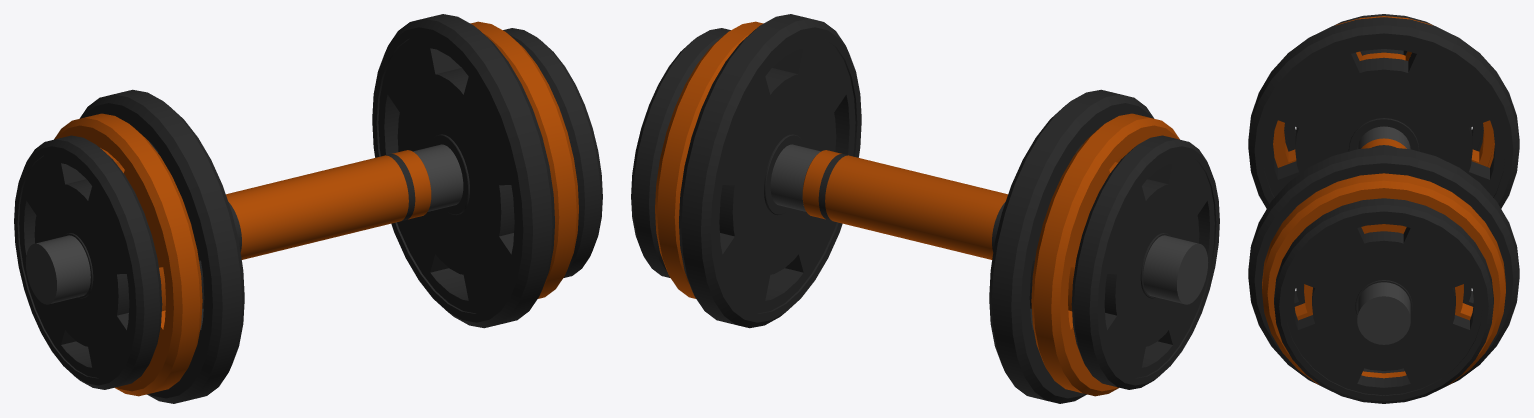
The model's file is Gym-model.glb.
3 views of the same model, side by side, from view 1: azimuth 30°, elevation 25°; view 2: azimuth 150°, elevation 25°; view 3: azimuth 270°, elevation 25° (orthographic). The views are drawn at different scales.
Visible parts, largest first — view 1: BigPlate, SmallPlate, MediumPlate, Handle; view 2: BigPlate, SmallPlate, MediumPlate, Handle; view 3: BigPlate, SmallPlate, MediumPlate, Handle.
Part boxes in pixels (<box>): BigPlate: <box>79,14,554,403</box>; SmallPlate: <box>14,28,602,389</box>; MediumPlate: <box>54,21,578,396</box>; Handle: <box>25,144,463,304</box>; BigPlate: <box>679,14,1154,403</box>; SmallPlate: <box>631,28,1219,389</box>; MediumPlate: <box>655,21,1179,396</box>; Handle: <box>770,144,1208,304</box>; BigPlate: <box>1248,17,1519,386</box>; SmallPlate: <box>1274,14,1493,403</box>; MediumPlate: <box>1262,16,1505,384</box>; Handle: <box>1357,126,1410,344</box>.
Size of the model in its own units: 5.98 by 3.07 by 3.07.
